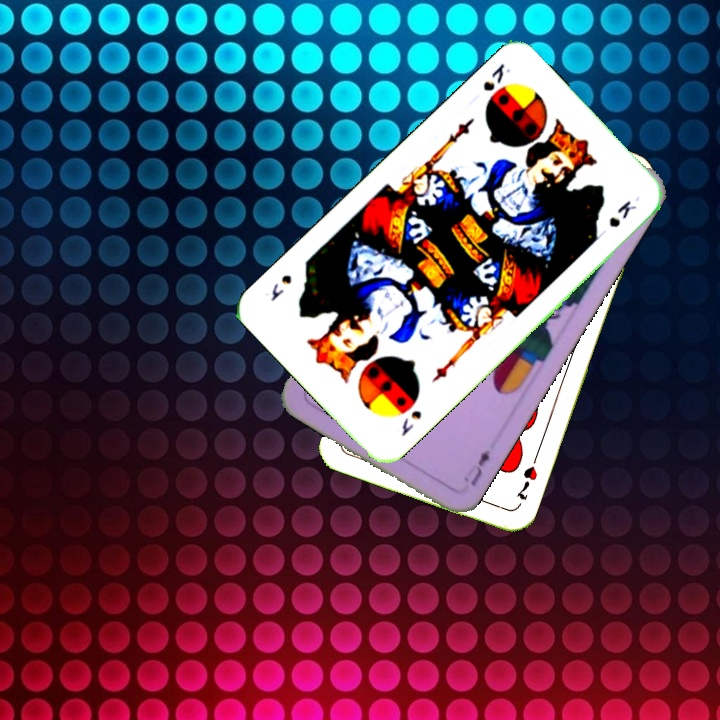EU: (466, 445, 494, 489)
H7: (512, 461, 540, 503)
SK: (478, 59, 513, 94), (397, 406, 425, 440)
